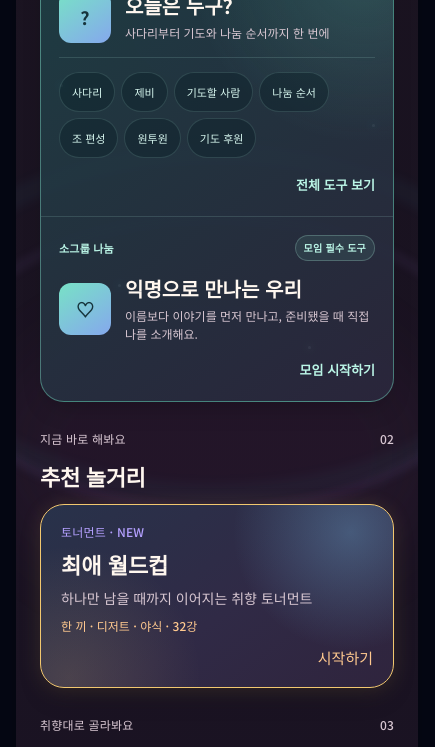
홈 상태와 직접 링크 › 도구를 실행하고 돌아와도 홈의 추천과 스크롤 위치를 복원한다
(page scrolled)
Click the button "나눔 순서": (294, 92) [259,72,329,112]
(page scrolled)
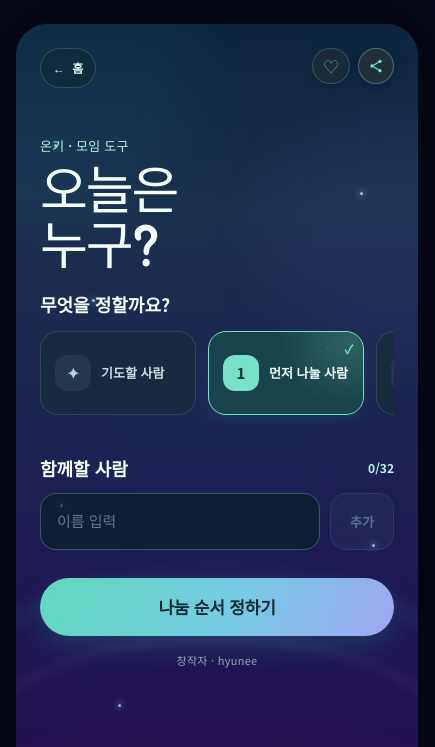
Click the button "← 홈": (68, 68) [40,48,96,88]
(page scrolled)
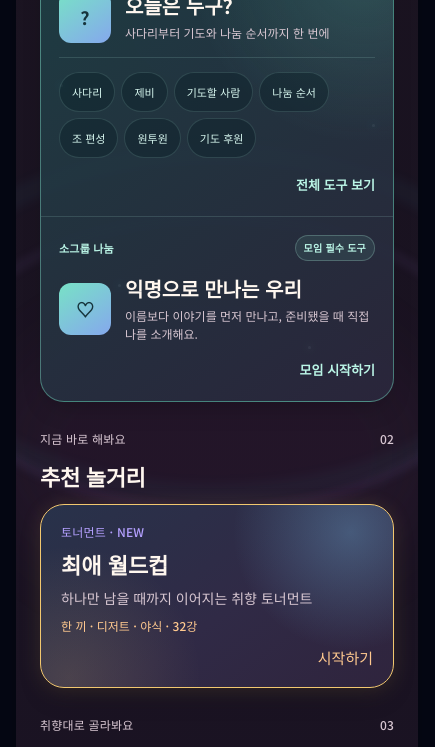
Now the text "최애 월드컵" is shown, box [61,549,168,579]
